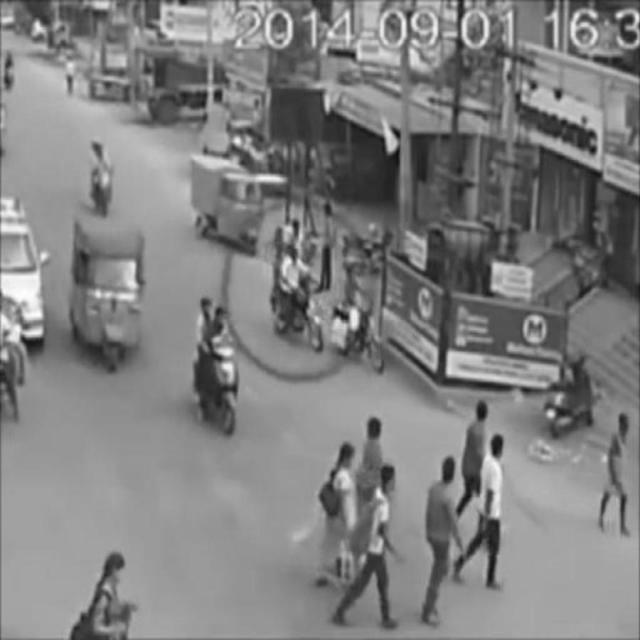person: (424, 453, 459, 629), (324, 441, 364, 592), (472, 429, 506, 587)
vehicle: (74, 218, 142, 374), (195, 150, 266, 263), (194, 296, 245, 433), (329, 265, 384, 379), (278, 227, 324, 355), (84, 140, 119, 216)
